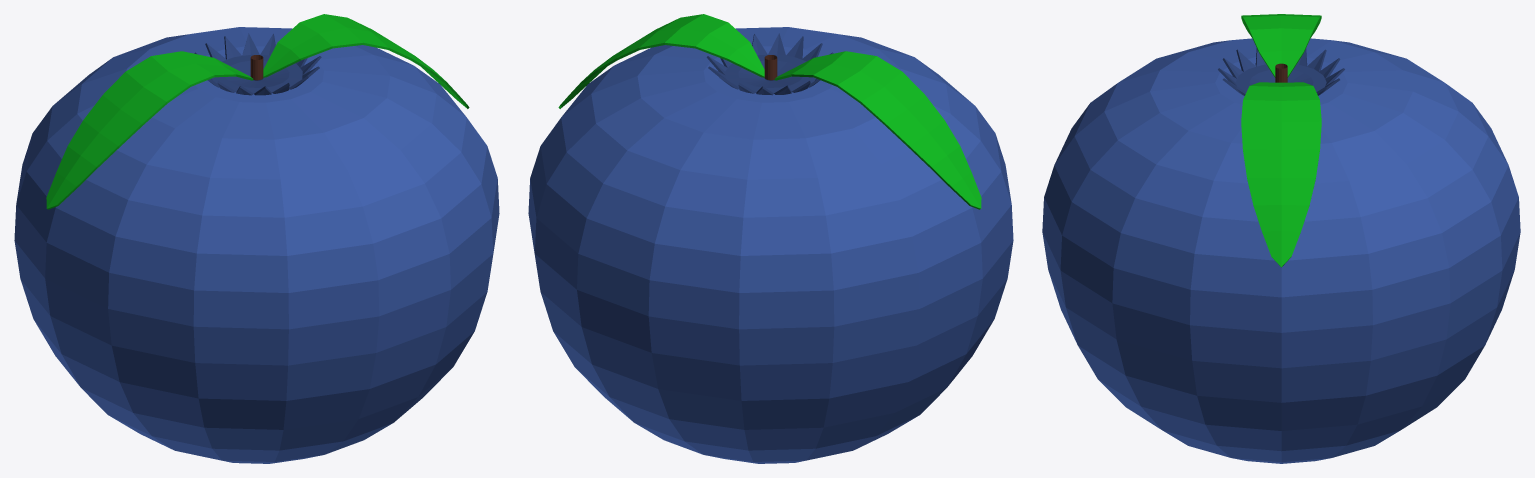
Rendered from Good_1.fbx.
The picture shows the model from 3 angles, left to right: view 1: azimuth 30°, elevation 25°; view 2: azimuth 150°, elevation 25°; view 3: azimuth 270°, elevation 25°; orthographic projection. The views are drawn at different scales.
Visible parts, largest first — view 1: BerryGood.001; view 2: BerryGood.001; view 3: BerryGood.001.
Part boxes in pixels (x1,y1,x2,y2): BerryGood.001: (14,14,499,463); BerryGood.001: (528,14,1013,463); BerryGood.001: (1042,14,1520,463).
Bounding box in the file's own units: 210 × 185 × 209.
